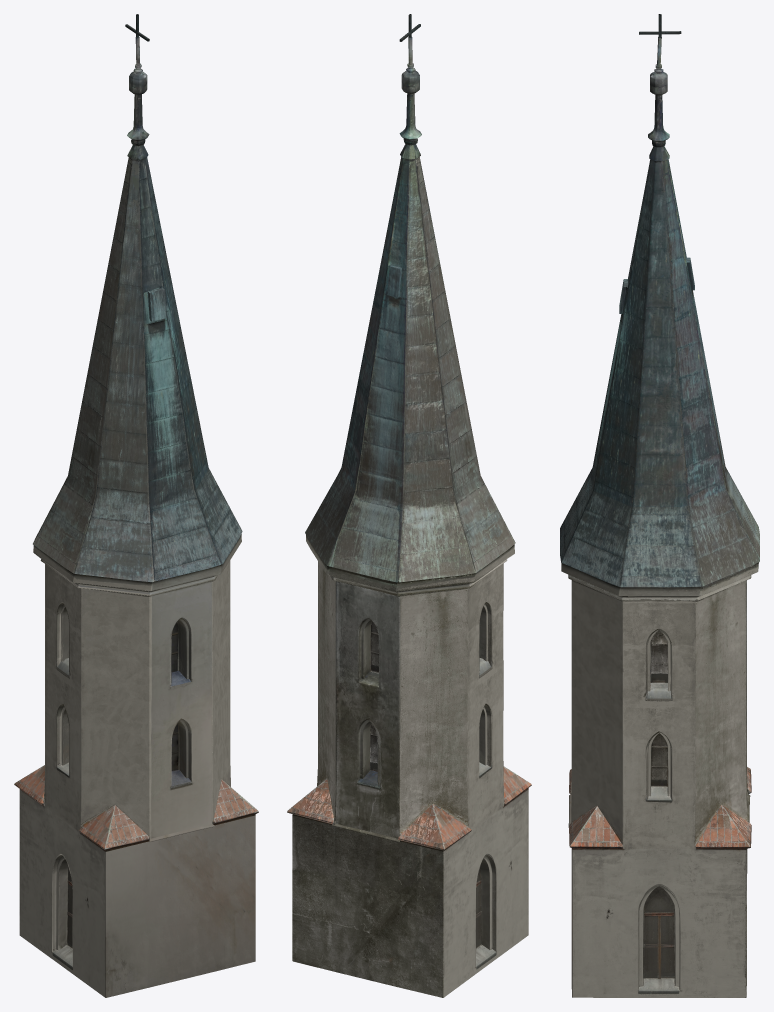
The model's file is sm_Church_01_08.fbx.
3 renders of one model, left to right at view 1: azimuth 30°, elevation 25°; view 2: azimuth 150°, elevation 25°; view 3: azimuth 270°, elevation 25°, orthographic.
Parts seen in each view (by area): view 1: sm_Church_01_08_LOD0; view 2: sm_Church_01_08_LOD0; view 3: sm_Church_01_08_LOD0.
Part boxes in pixels (x1,y1,x2,y2): sm_Church_01_08_LOD0: (14,14,258,997); sm_Church_01_08_LOD0: (287,14,531,997); sm_Church_01_08_LOD0: (560,14,759,997).
Bounding box in the file's own units: 343 × 343 × 1790.
